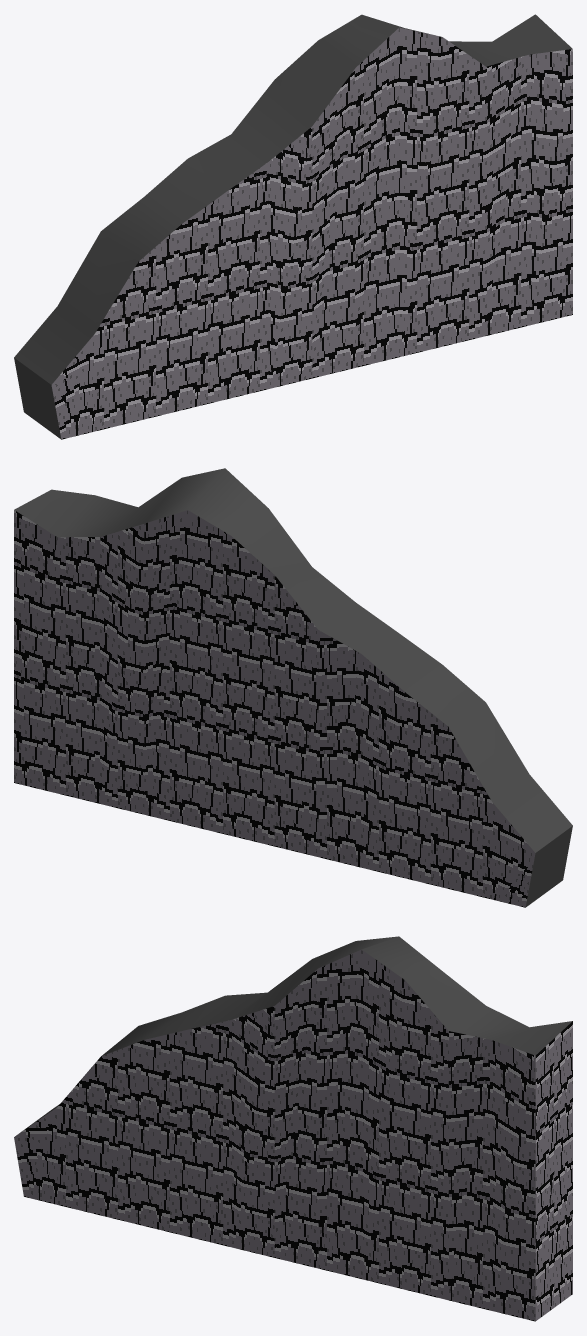
The model's file is BrokenRuinsWallSmall.fbx.
The picture shows the model from 3 angles, top to bottom: view 1: azimuth 30°, elevation 25°; view 2: azimuth 150°, elevation 25°; view 3: azimuth 330°, elevation 25°; orthographic projection.
Parts seen in each view (by area): view 1: BrokenRuinsWallSmall; view 2: BrokenRuinsWallSmall; view 3: BrokenRuinsWallSmall.
Part boxes in pixels (x1,y1,x2,y2): BrokenRuinsWallSmall: (14,14,572,439); BrokenRuinsWallSmall: (14,468,572,907); BrokenRuinsWallSmall: (14,936,572,1321).
Bounding box in the file's own units: 4099 × 2476 × 510.
Materials: 2 (1 with a texture image).
